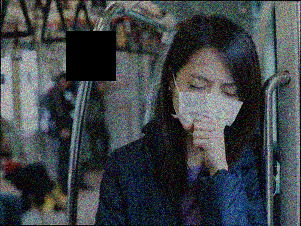with_mask: (172, 73, 241, 138)
